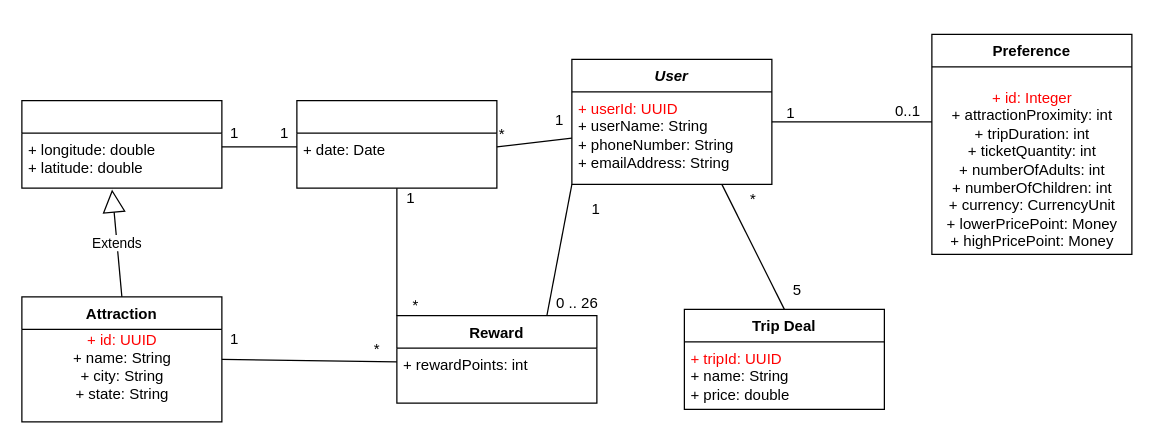
This 1154x444 diagram has some shape labels left out. The box of each missing label's shape, as (x1, y1, x2, y2) in pixels:
Location: (21, 99, 222, 188)
Visited Location: (296, 99, 497, 188)
